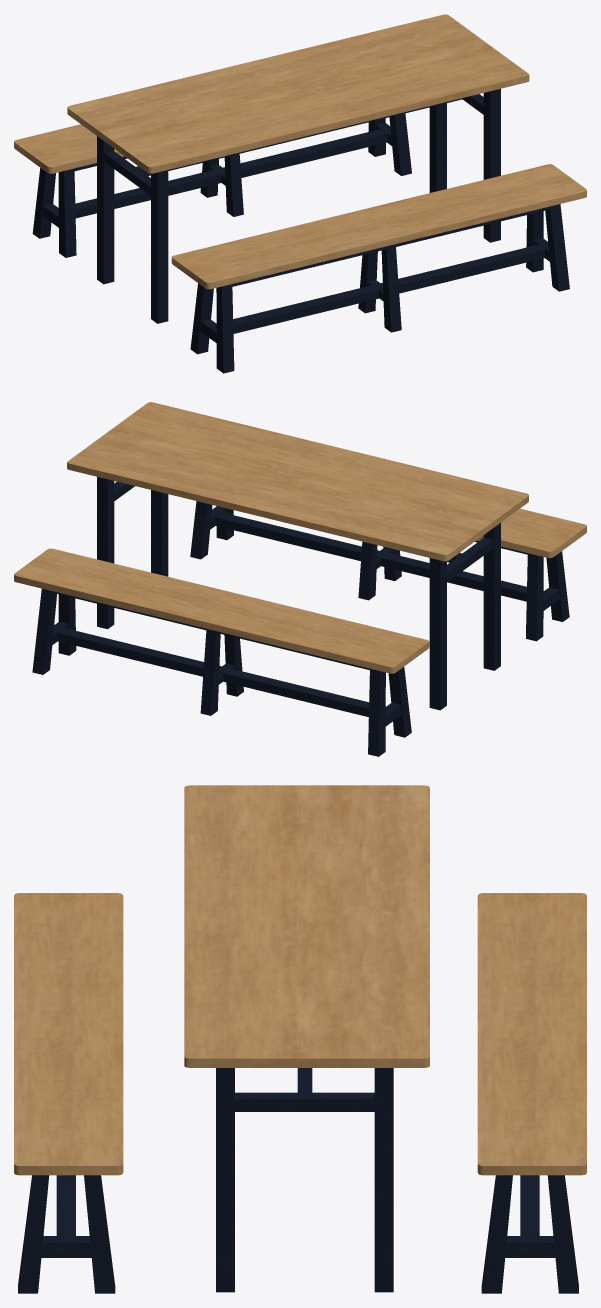
File: ChangZhuoYi.FBX
3 views of the same model, one above another, from view 1: azimuth 30°, elevation 25°; view 2: azimuth 150°, elevation 25°; view 3: azimuth 270°, elevation 25° (orthographic). The views are drawn at different scales.
Parts seen in each view (by area): view 1: YF_Model_ChangZhuoYi_001, YF_Model_ChangZhuoYi_002, YF_Model_ChangZhuoYi_003; view 2: YF_Model_ChangZhuoYi_001, YF_Model_ChangZhuoYi_003, YF_Model_ChangZhuoYi_002; view 3: YF_Model_ChangZhuoYi_001, YF_Model_ChangZhuoYi_003, YF_Model_ChangZhuoYi_002.
Boxes of the visible parts, box(x1,y1,x2,y2) form: YF_Model_ChangZhuoYi_001: box(67, 14, 529, 323); YF_Model_ChangZhuoYi_002: box(171, 164, 586, 373); YF_Model_ChangZhuoYi_003: box(14, 113, 411, 257); YF_Model_ChangZhuoYi_001: box(67, 402, 528, 710); YF_Model_ChangZhuoYi_003: box(14, 548, 429, 756); YF_Model_ChangZhuoYi_002: box(190, 501, 586, 641); YF_Model_ChangZhuoYi_001: box(184, 785, 429, 1292); YF_Model_ChangZhuoYi_003: box(477, 893, 586, 1293); YF_Model_ChangZhuoYi_002: box(14, 893, 123, 1293).
Bounding box in the file's own units: 387 × 163 × 343.
Materials: 1 (1 with a texture image).
